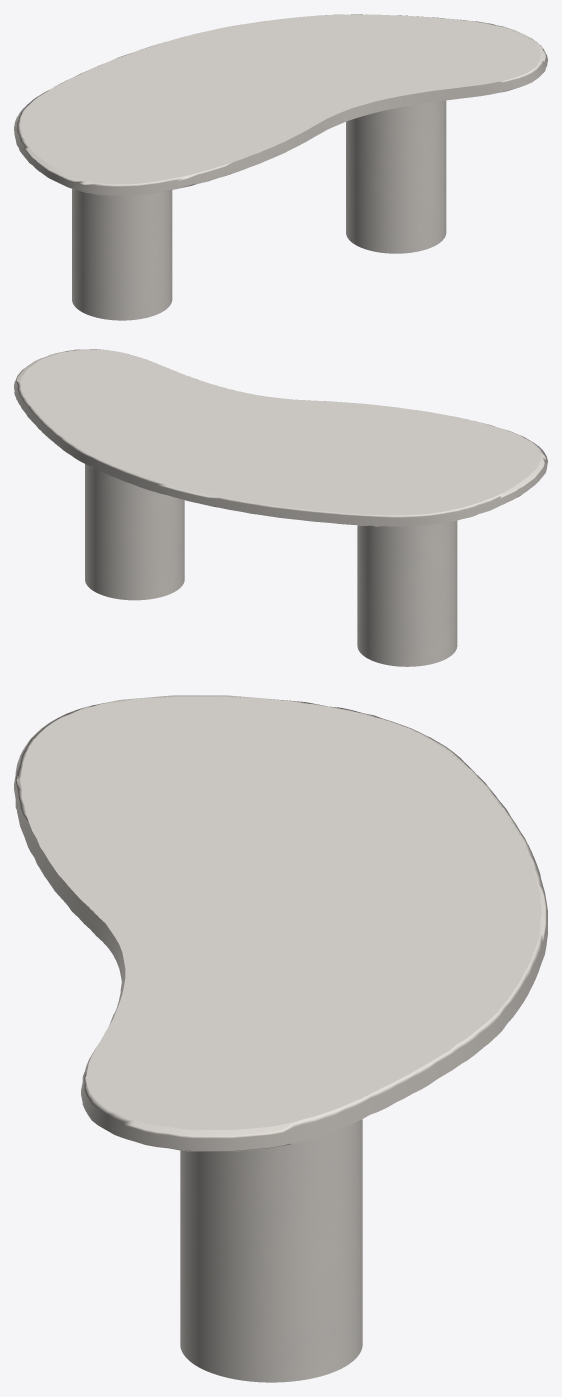
Rendered from pearlwhite_leaf1_round_stream.glb.
The picture shows the model from 3 angles, top to bottom: view 1: azimuth 30°, elevation 25°; view 2: azimuth 150°, elevation 25°; view 3: azimuth 270°, elevation 25°; orthographic projection. The views are drawn at different scales.
Parts seen in each view (by area): view 1: round_leaf1, stream; view 2: round_leaf1, stream; view 3: round_leaf1, stream.
Boxes of the visible parts, x1,y1,x2,y2 form: round_leaf1: [14, 14, 547, 195]; stream: [72, 100, 446, 320]; round_leaf1: [14, 349, 547, 526]; stream: [85, 464, 457, 666]; round_leaf1: [14, 695, 547, 1151]; stream: [180, 1119, 362, 1382].
Bounding box in the file's own units: 7.49 × 2.5 × 3.8.
1 material, 1 textured.
